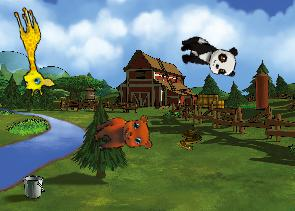bear: (89, 107, 157, 165)
giraffe: (2, 4, 57, 99)
panda: (175, 33, 241, 79)
